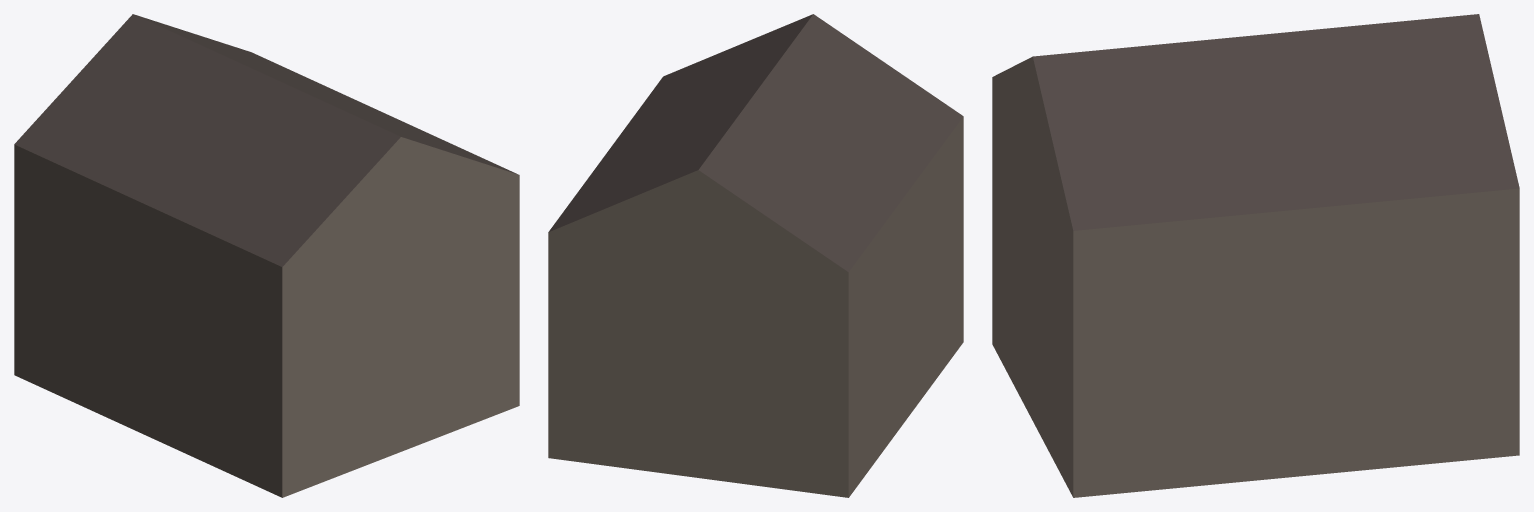
The picture shows the model from 3 angles, left to right: view 1: azimuth 30°, elevation 25°; view 2: azimuth 150°, elevation 25°; view 3: azimuth 270°, elevation 25°; orthographic projection. The views are drawn at different scales.
Visible parts, largest first — view 1: HP-w1424106451; view 2: HP-w1424106451; view 3: HP-w1424106451.
Boxes of the visible parts, x1=… form: HP-w1424106451: x1=14, y1=14, x2=519, y2=497; HP-w1424106451: x1=548, y1=14, x2=963, y2=497; HP-w1424106451: x1=992, y1=14, x2=1519, y2=497.
Bounding box in the file's own units: 9.46 × 8.19 × 10.74.
